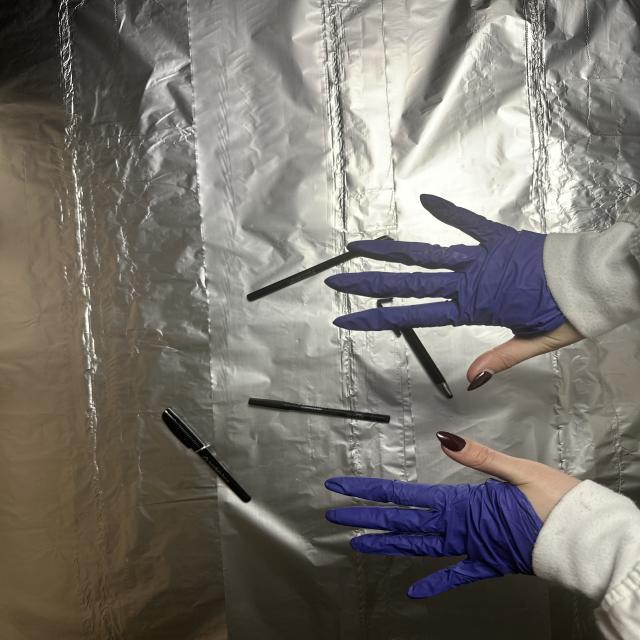glove_partial: (323, 186, 598, 392), (318, 429, 602, 601)
